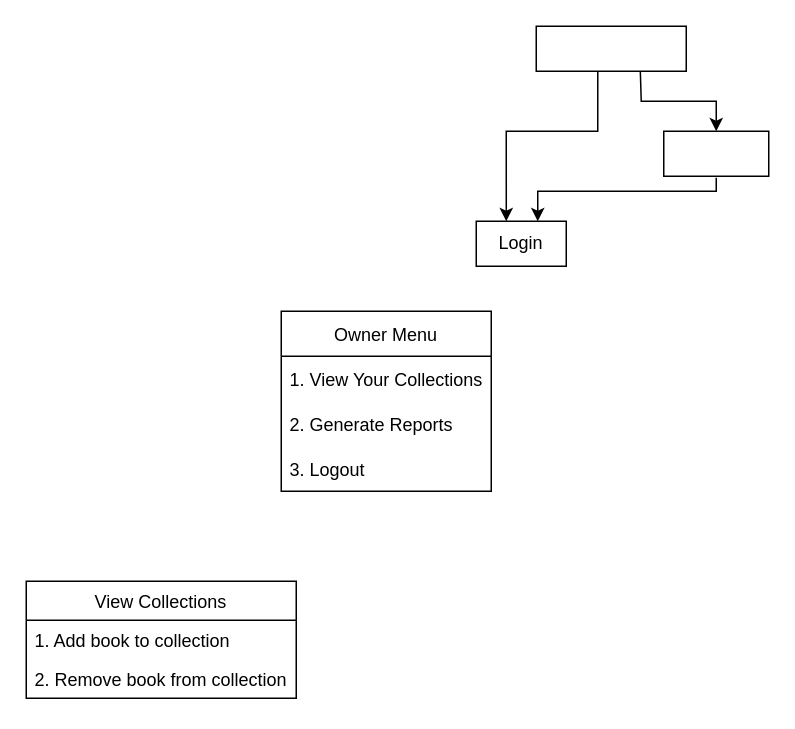
This 795x729 diagram has some shape labels left out. Here are the shapes that lost their labels. From the top down, the box of each, then its label:
(535, 25, 686, 71): Start Application
(662, 130, 769, 176): Register
